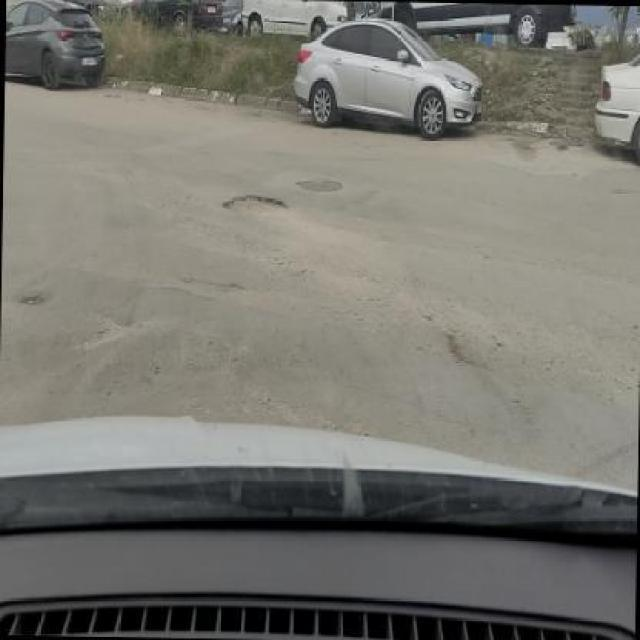Pothole: (221, 194, 289, 210)
